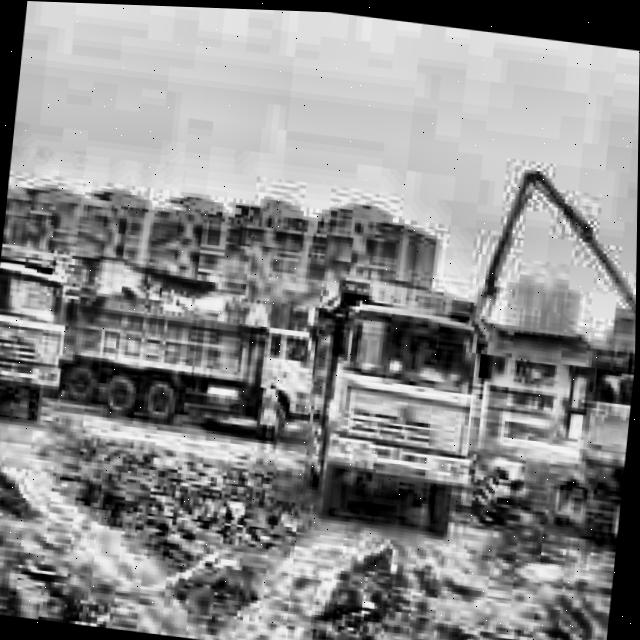dump_truck: (298, 270, 500, 531), (58, 287, 316, 444), (0, 240, 70, 423)
excavator: (549, 333, 636, 550)
